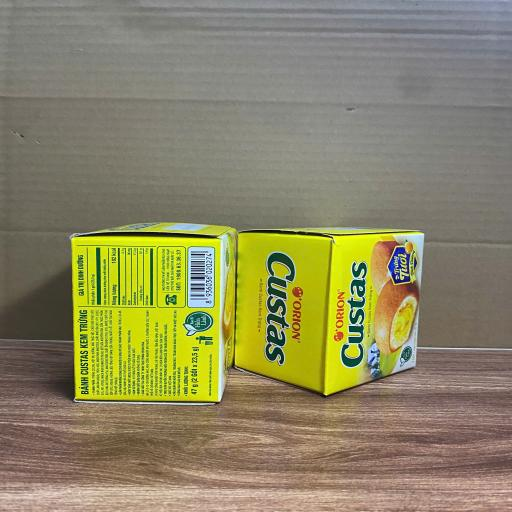custas: (235, 227, 424, 396), (69, 222, 237, 404)
